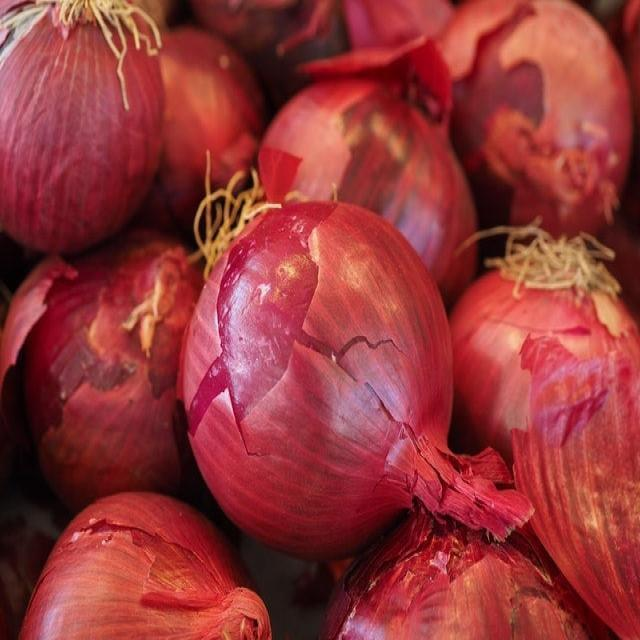Onion: (183, 147, 536, 560), (23, 228, 226, 520), (422, 4, 631, 262), (258, 74, 478, 310), (448, 220, 637, 460), (505, 319, 640, 639), (0, 1, 169, 255), (21, 490, 273, 640), (324, 524, 593, 640), (143, 24, 268, 244), (188, 0, 346, 85), (0, 254, 79, 382), (336, 0, 460, 58)
